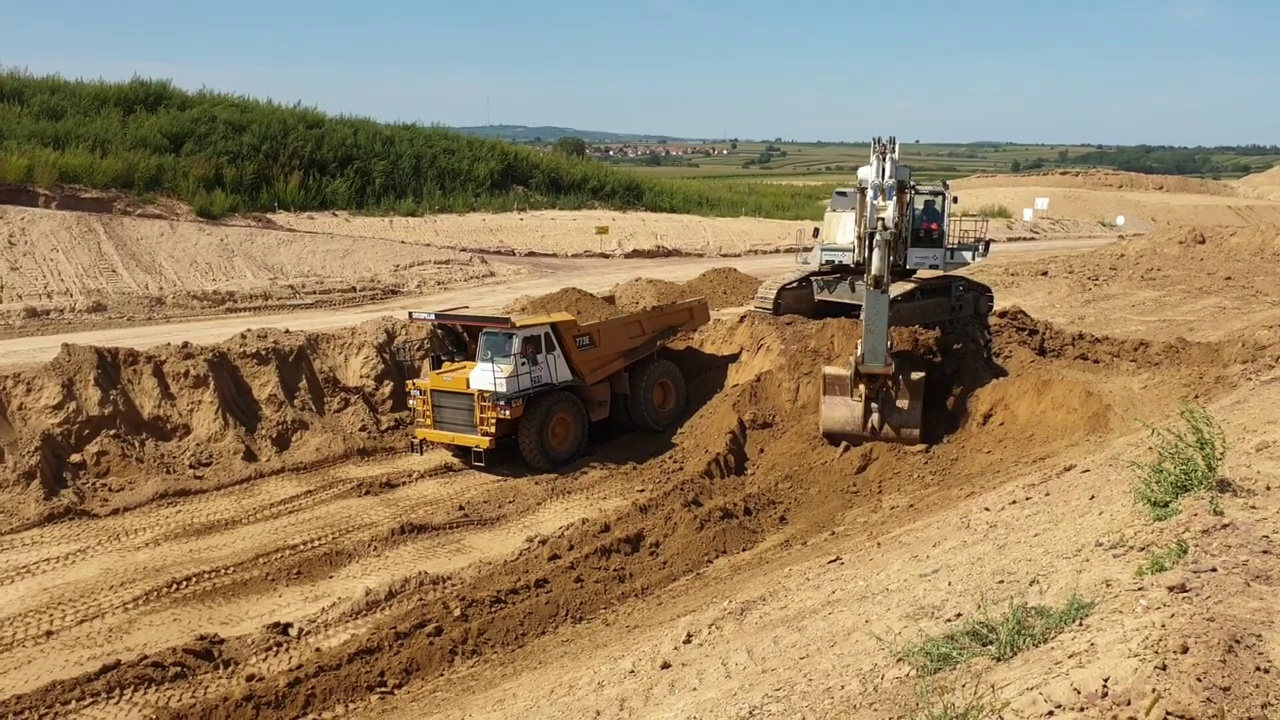excavator: (749, 133, 1005, 454)
truck: (402, 293, 716, 476)
